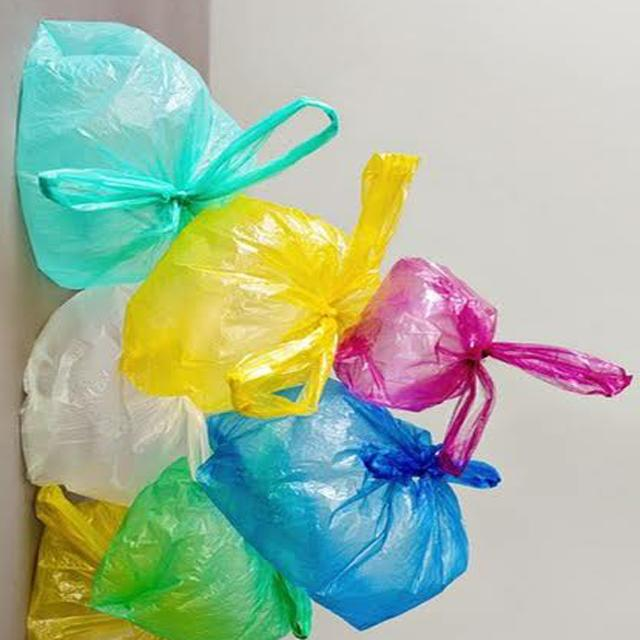Single-layer Plastic: (18, 22, 339, 288), (121, 154, 416, 417), (198, 379, 499, 628), (335, 258, 631, 476), (21, 287, 210, 503), (91, 460, 310, 640), (28, 485, 160, 639)
